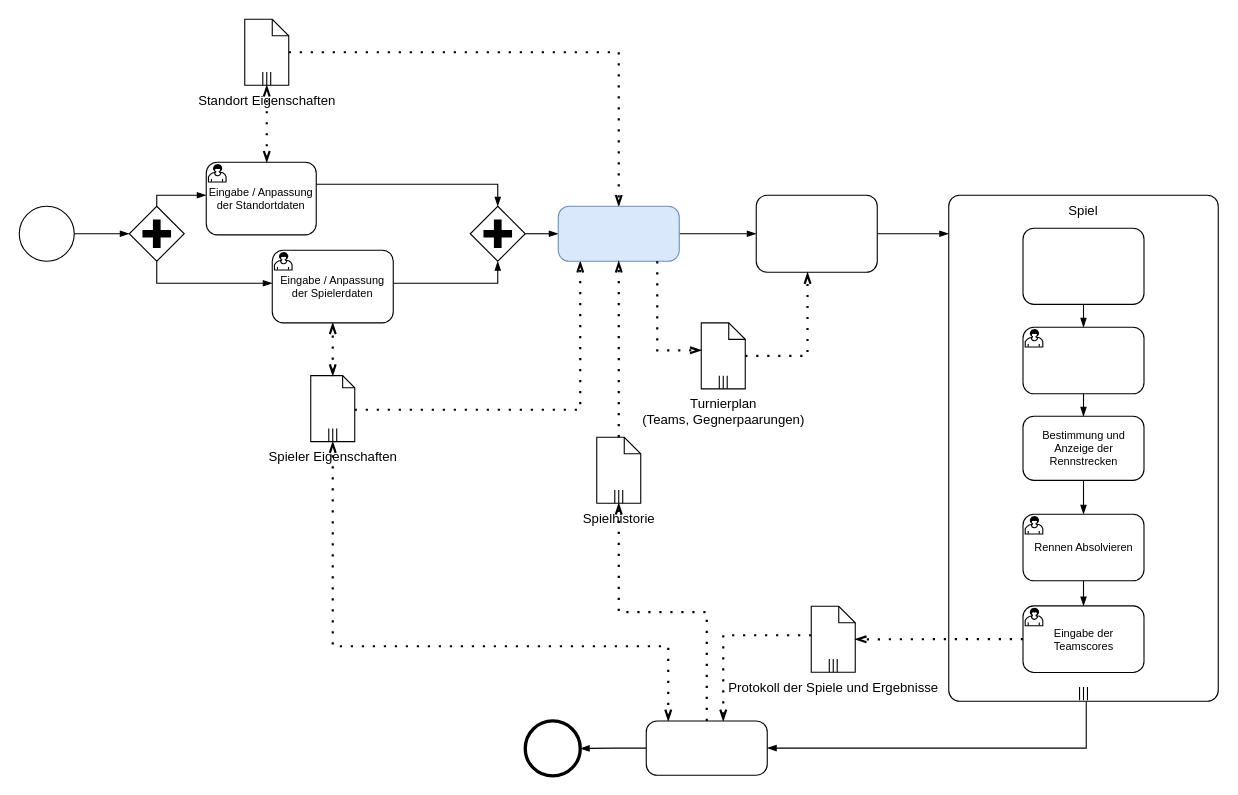
Image size: 1238x795. Some labels were removed from this diagram. Each missing label, with the centre of its shape:
"Anzeige der Platzzuordnung der Paarung" belongs at pixel 1083 265.
"Bestätigung der Bereitschaft" belongs at pixel 1083 360.
"Festlegung einer parellelitätsoptimierten Spielreihenfolge" belongs at pixel 816 233.
"Generieren eines neuen Tourniers (Teams, Paarungen)" belongs at pixel 618 233.
"Spielauswertung" belongs at pixel 706 747.
